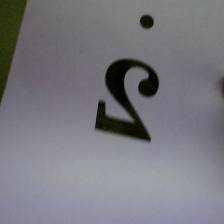violet2: (92, 10, 166, 145)
